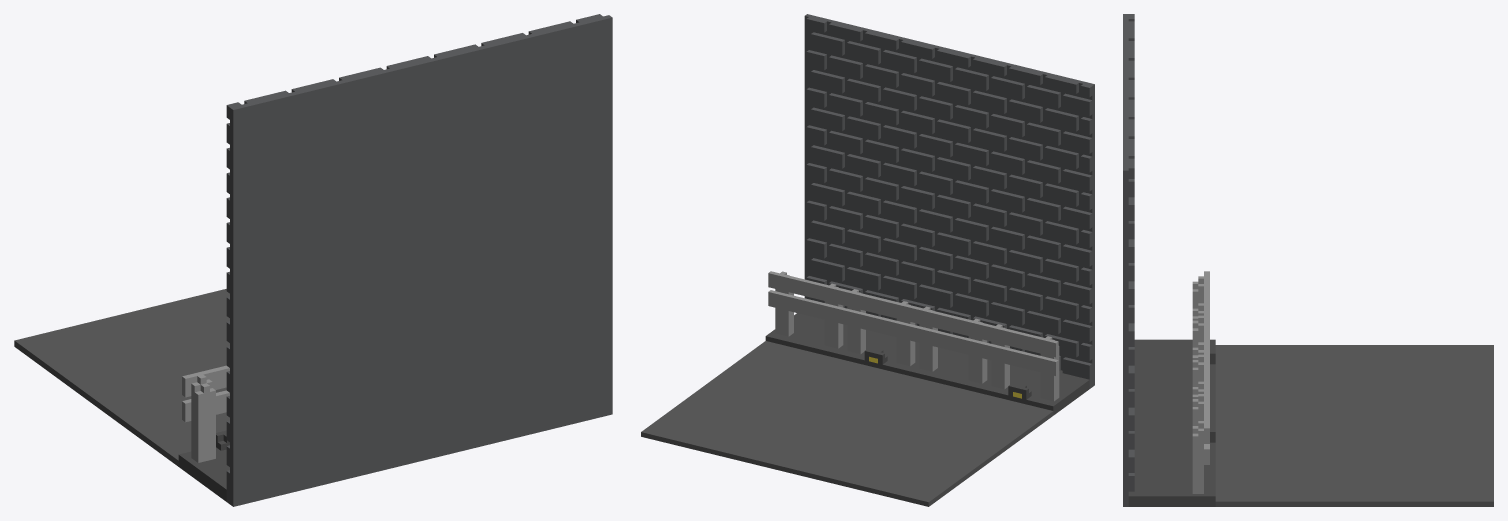
Rendered from MapWIP_v02-2.obj.
3 views of the same model, side by side, from view 1: azimuth 30°, elevation 25°; view 2: azimuth 150°, elevation 25°; view 3: azimuth 270°, elevation 25° (orthographic). The views are drawn at different scales.
Bounding box in the file's own units: 6.4 × 6.4 × 6.4.
1 material, 1 textured.
